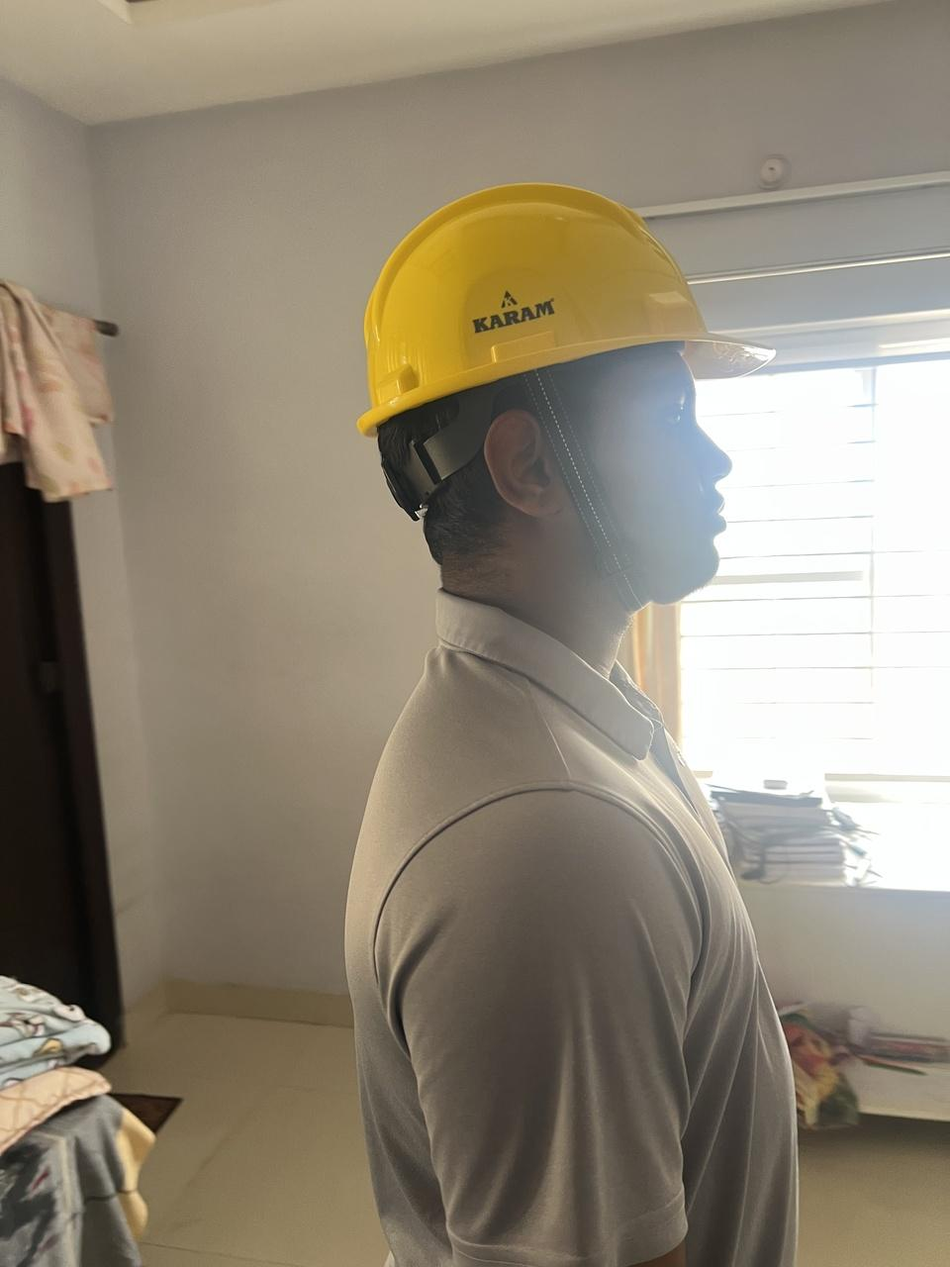Helmet: (358, 182, 775, 608)
No_Vest: (344, 593, 798, 1267)
Person: (344, 182, 798, 1267)
